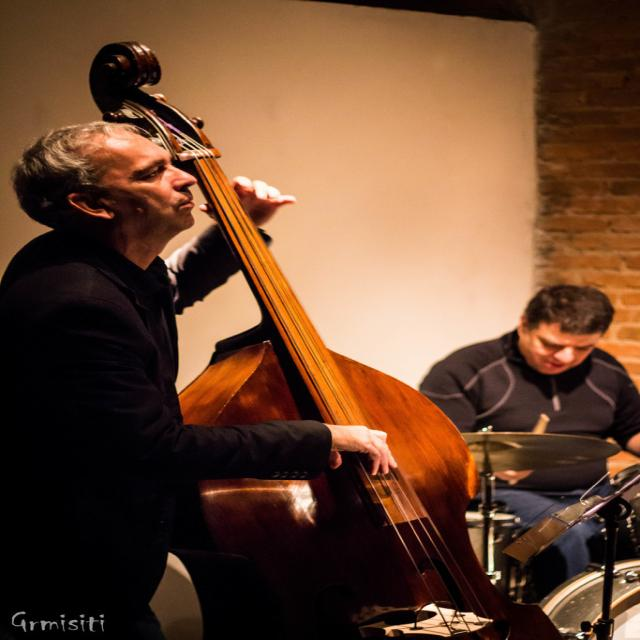Person: (0, 121, 398, 640), (418, 286, 640, 610)
